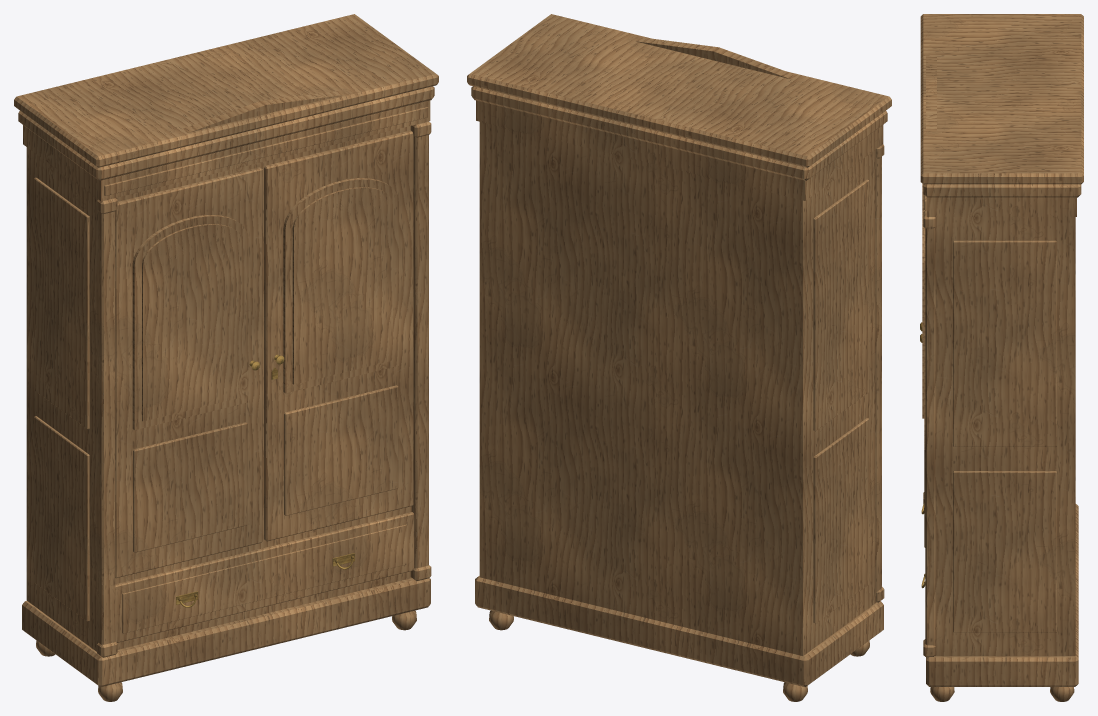
The model's file is bed_wardrobe.obj.
3 renders of one model, left to right at view 1: azimuth 30°, elevation 25°; view 2: azimuth 150°, elevation 25°; view 3: azimuth 270°, elevation 25°, orthographic. The views are drawn at different scales.
Parts seen in each view (by area): view 1: bed_wardrobe_wood_light, bed_wardrobe_brass; view 2: bed_wardrobe_wood_light; view 3: bed_wardrobe_wood_light.
Part boxes in pixels (left/top/right/bottom): bed_wardrobe_wood_light: left=14, top=14, right=438, bottom=701; bed_wardrobe_brass: left=176, top=354, right=354, bottom=607; bed_wardrobe_wood_light: left=467, top=14, right=891, bottom=701; bed_wardrobe_wood_light: left=920, top=14, right=1083, bottom=701.
Bounding box in the file's own units: 1.4 × 2.2 × 0.6.
Materials: 2 (2 with a texture image).
